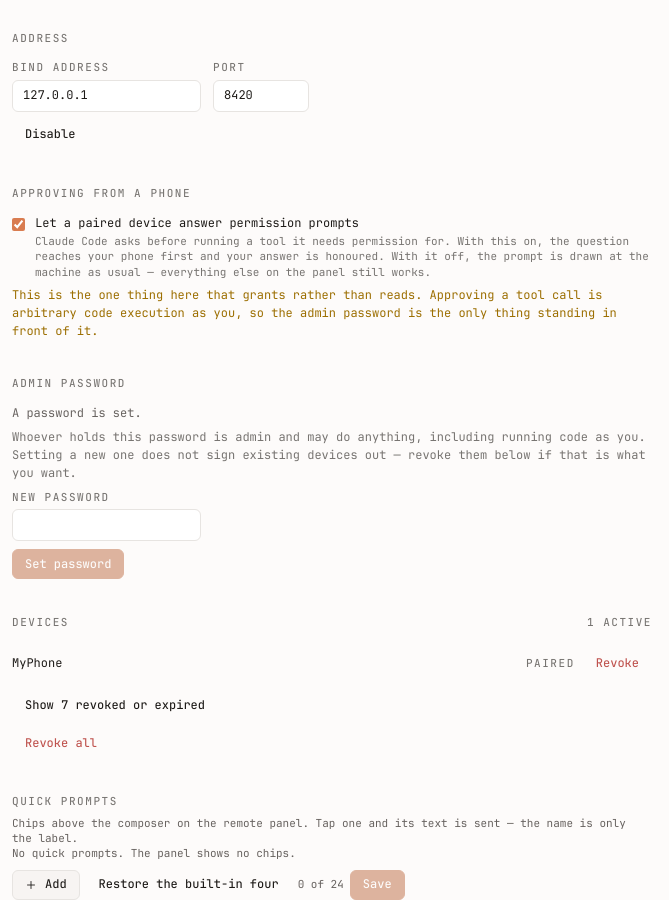
Scenario: RemotePane — devices, live vs spent › folds history away so the live list is what you see
(page scrolled)
Check: the text "MyPhone" is shown, box [12, 655, 62, 671]
Check: the text "Old0" is not shown
Click the button "Show 7 revoked or expired". click: (115, 705)
box: [12, 690, 218, 720]
(page scrolled)
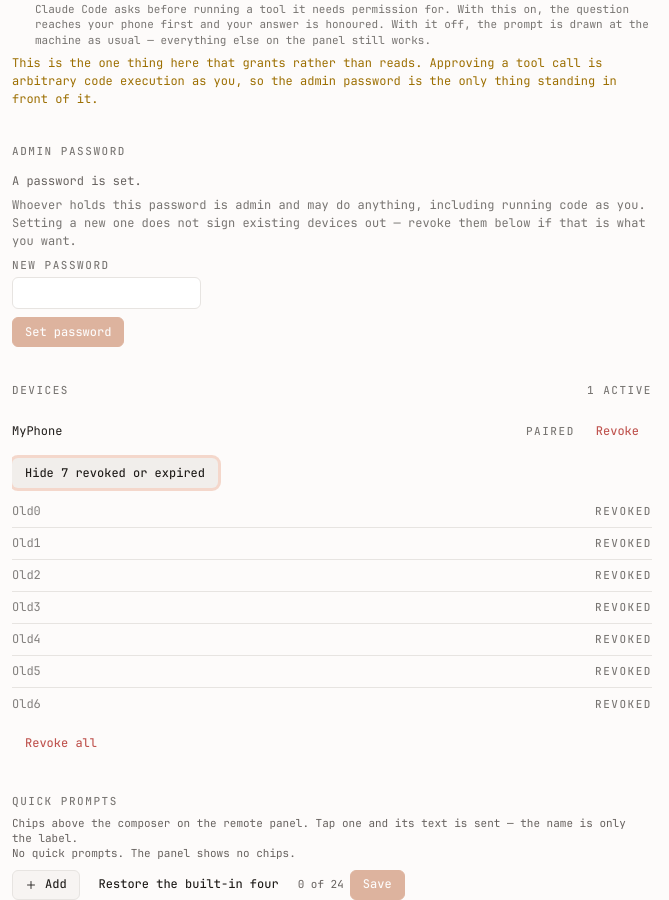
Check: the text "Old0" is shown, box [12, 503, 41, 519]
Check: the text "Old6" is shown, box [12, 696, 41, 712]
